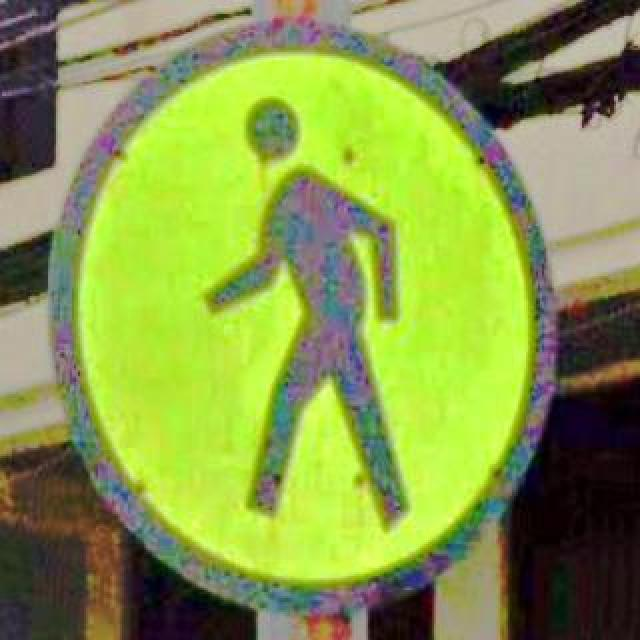pedestrian crossing: (48, 16, 560, 616)
